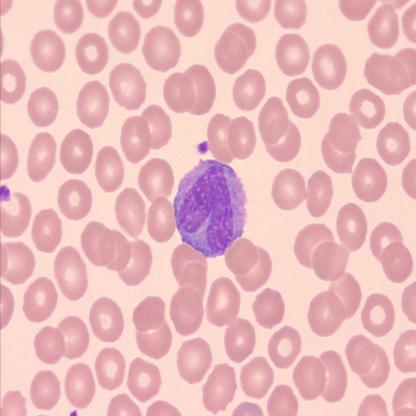Monocyte: (172, 156, 249, 259)
